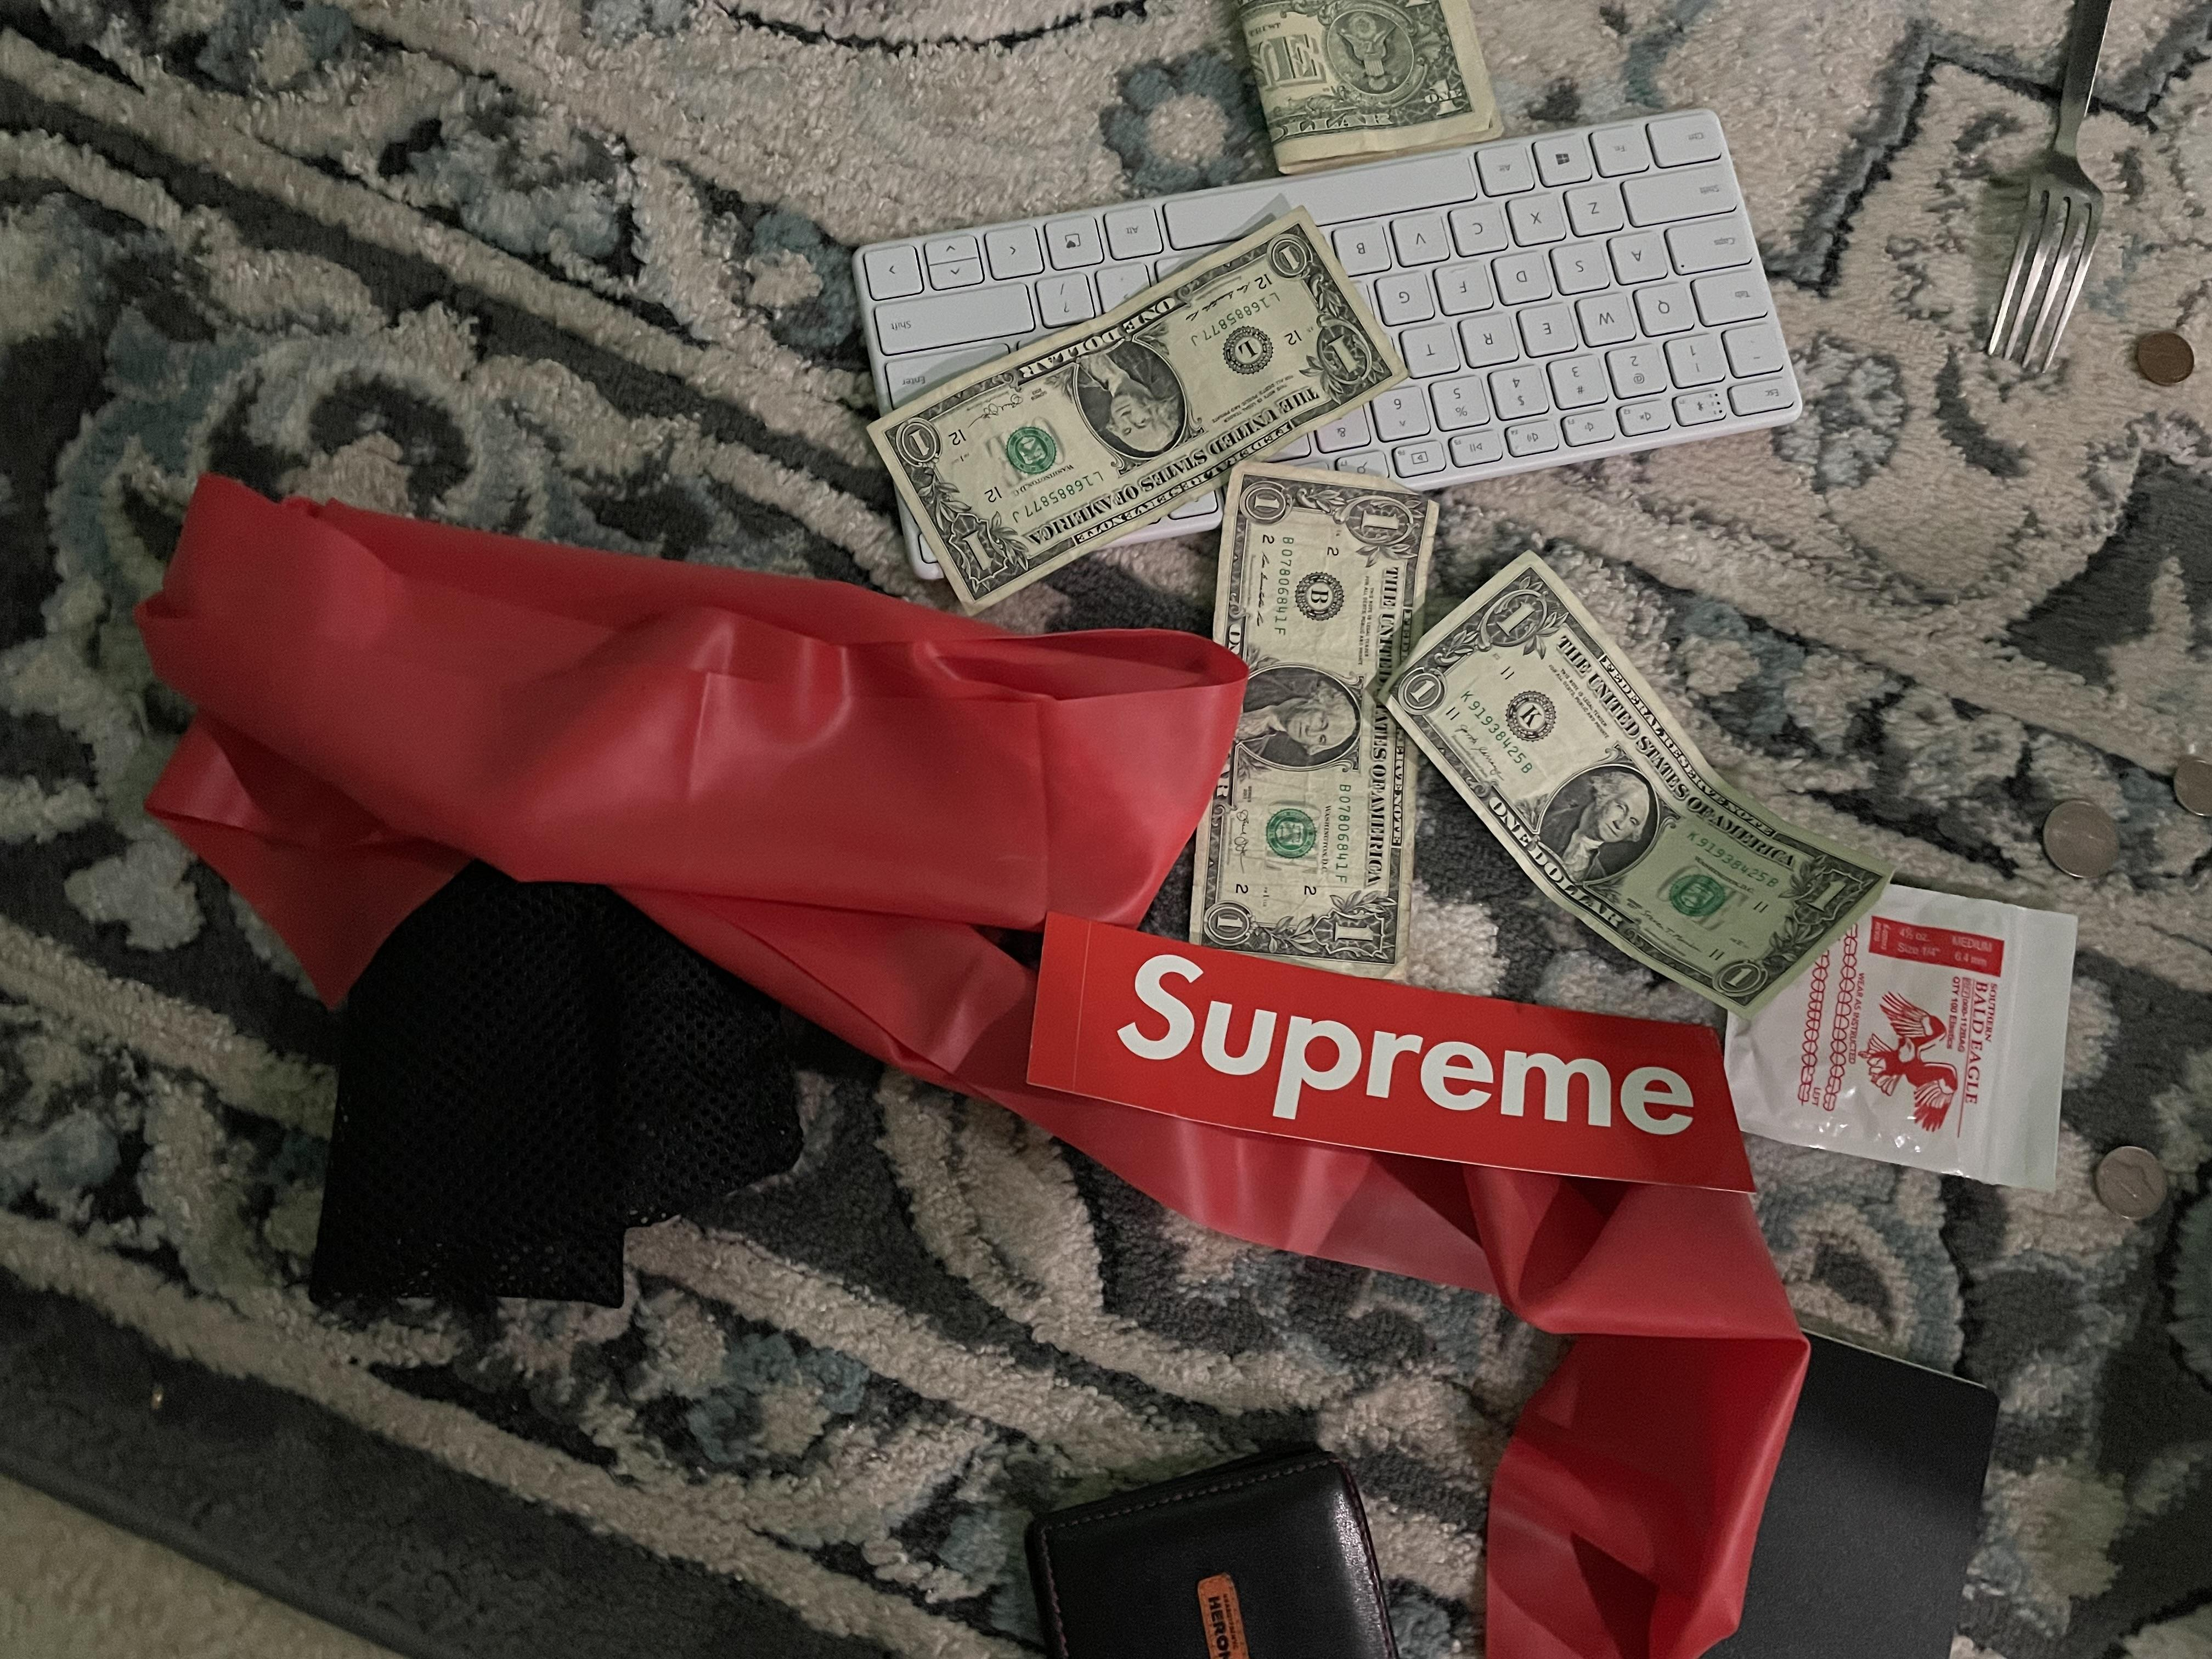Nickel: (2085, 1143, 2168, 1225)
OneBill: (1383, 538, 1898, 1028), (862, 204, 1409, 603), (1190, 451, 1442, 1002), (1235, 5, 1541, 171), (2161, 739, 2212, 831)
Penny: (2134, 310, 2198, 394)
Quarter: (2036, 802, 2127, 884)
